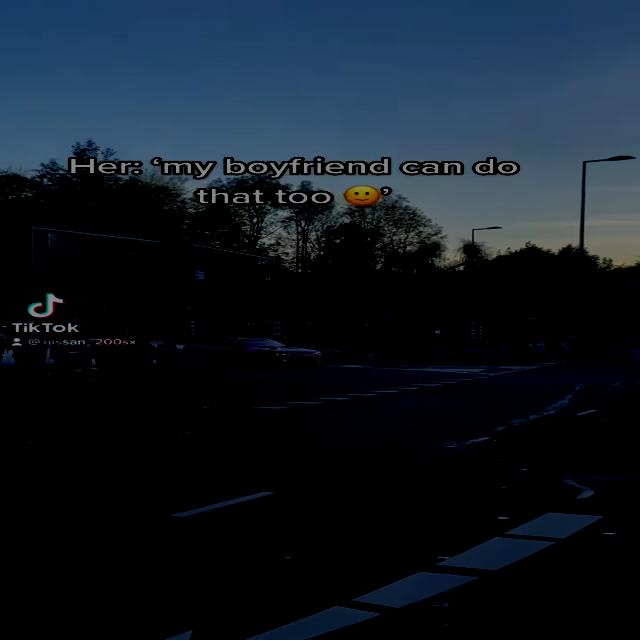car: (191, 333, 327, 374)
